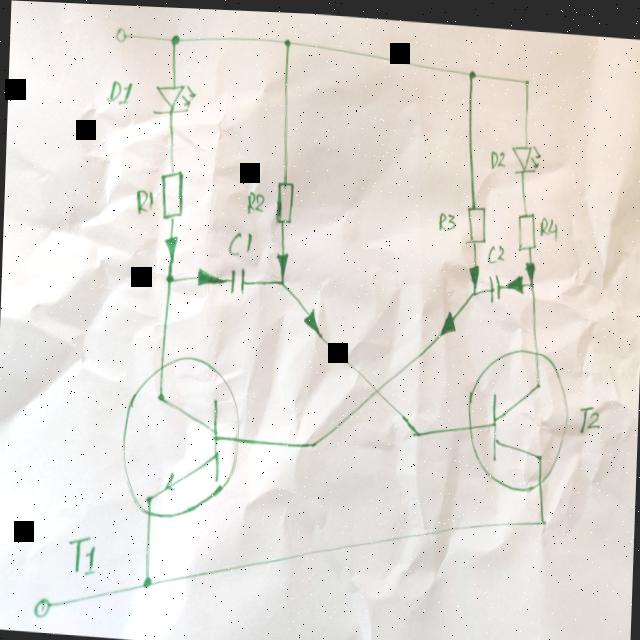capacitor: (227, 262, 246, 294), (486, 266, 502, 299)
crossover: (364, 372, 384, 400)
diode: (148, 77, 196, 119), (508, 136, 542, 172)
junction: (136, 568, 156, 591), (305, 430, 321, 452), (534, 508, 550, 524), (408, 420, 423, 437), (168, 29, 181, 45), (162, 268, 175, 282), (280, 32, 292, 46), (276, 272, 287, 286), (466, 63, 476, 76), (469, 281, 479, 294), (522, 72, 530, 82), (527, 274, 535, 284)
resistor: (156, 164, 186, 220), (272, 175, 296, 223), (463, 198, 487, 242), (514, 203, 536, 247)
terminal: (30, 591, 54, 621), (112, 22, 128, 43)
text: (64, 530, 98, 578), (574, 397, 601, 430), (106, 75, 132, 107), (225, 226, 252, 254), (132, 185, 154, 218), (244, 187, 266, 212), (436, 204, 457, 228), (538, 210, 558, 235), (485, 237, 505, 261), (488, 143, 506, 165)
transistor: (117, 346, 243, 524), (464, 336, 572, 491)
